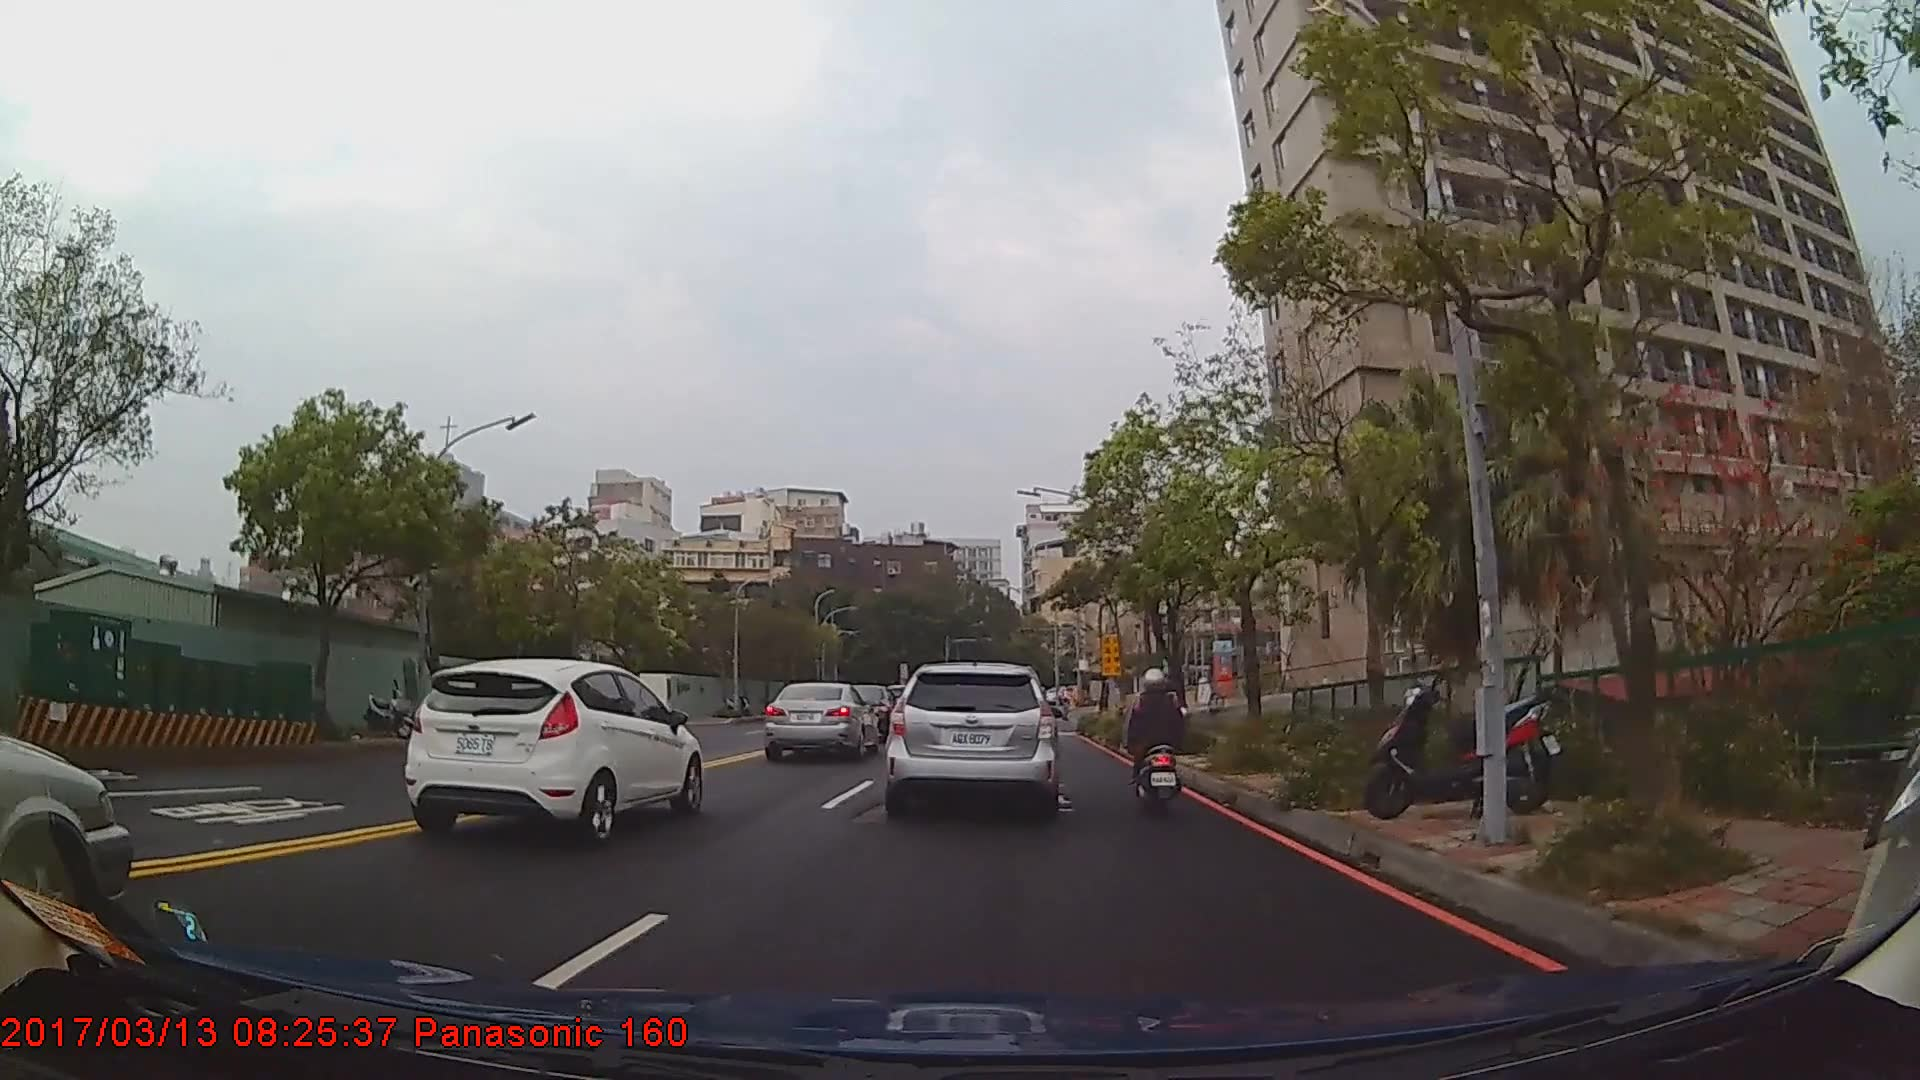rider: (1126, 668, 1186, 817)
vehicle: (404, 657, 700, 843), (886, 661, 1056, 817), (759, 680, 879, 760)
